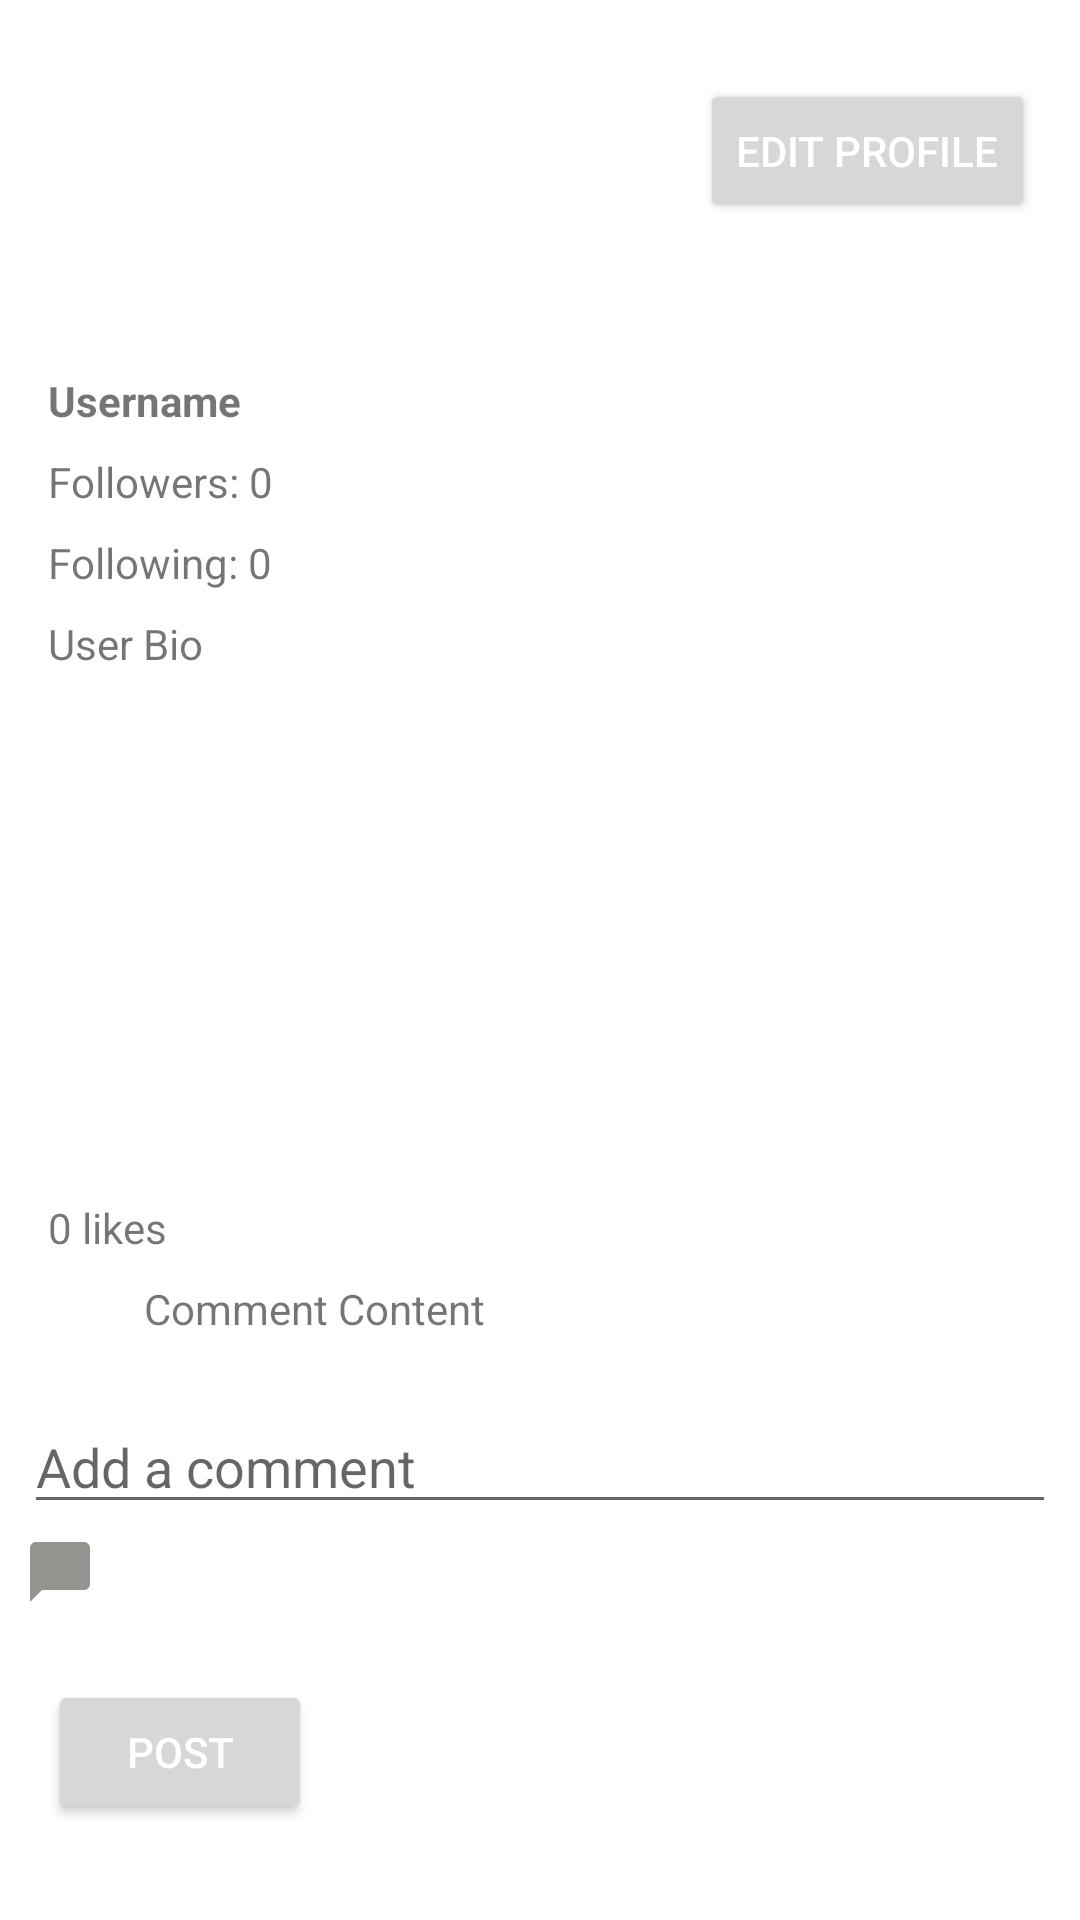

Screen size 1080 × 1920. Icon name, then its box in pixels as (x1, y1, x2, y2):
chat bubble: (30, 1542, 90, 1602)
